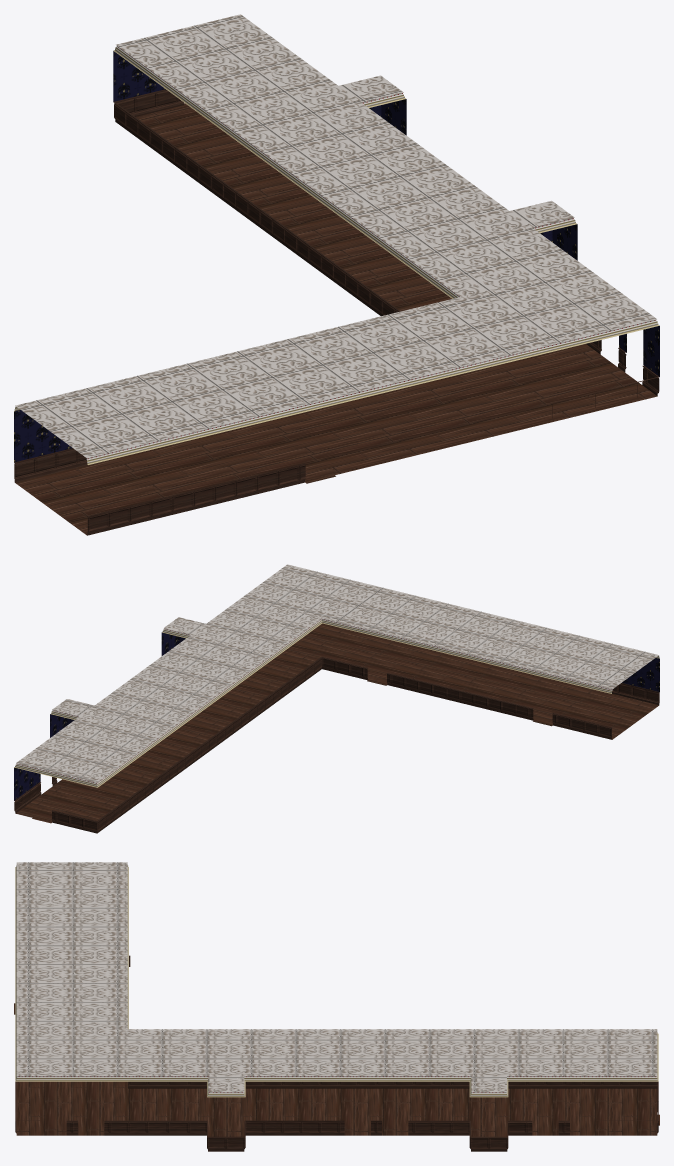
The model's file is Hallway_B_FINAL.fbx.
3 renders of one model, top to bottom at view 1: azimuth 30°, elevation 25°; view 2: azimuth 150°, elevation 25°; view 3: azimuth 270°, elevation 25°, orthographic. The views are drawn at different scales.
Parts seen in each view (by area): view 1: Ceiling007; view 2: Ceiling007; view 3: Ceiling007.
Boxes of the visible parts, <box> form: Ceiling007: <box>14,14,659,535</box>; Ceiling007: <box>14,564,659,833</box>; Ceiling007: <box>14,862,659,1151</box>.
Bounding box in the file's own units: 2882 × 346 × 3415.
